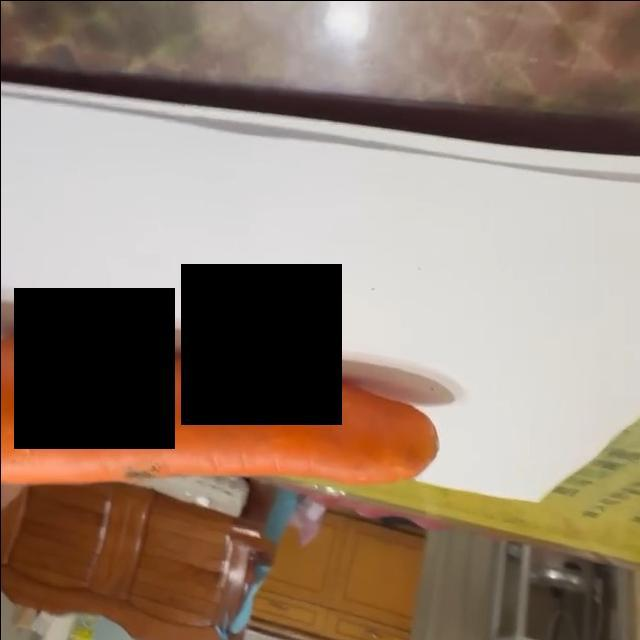carrot: (1, 329, 447, 489)
